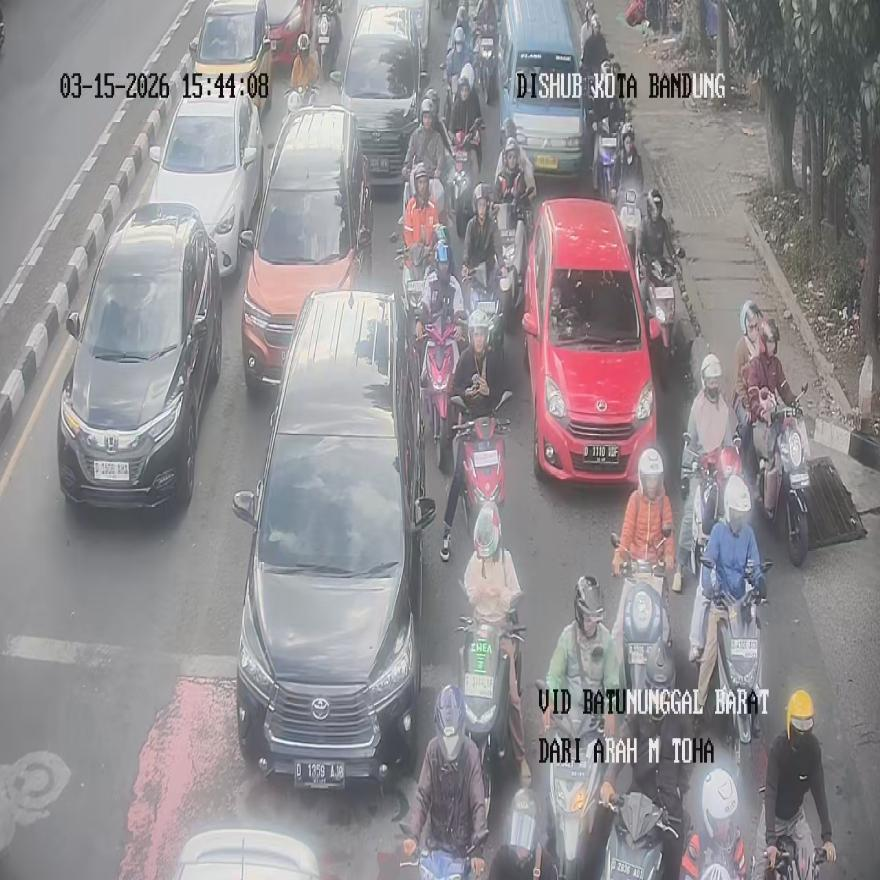Mobil: (232, 288, 436, 788), (56, 204, 221, 510), (238, 95, 372, 388), (520, 198, 658, 480), (148, 78, 262, 276), (329, 2, 428, 181), (496, 0, 585, 176), (189, 0, 271, 120)
Motor: (536, 683, 606, 878), (703, 557, 770, 753), (610, 528, 676, 722), (456, 611, 525, 787), (752, 384, 812, 567), (451, 388, 512, 536), (679, 432, 740, 580), (679, 764, 746, 880), (599, 786, 680, 880), (489, 786, 555, 880), (421, 320, 460, 474), (397, 241, 436, 385), (492, 190, 531, 326), (397, 821, 484, 880), (642, 254, 676, 386), (462, 266, 504, 370), (446, 123, 481, 242), (287, 31, 319, 108), (614, 188, 642, 265), (593, 121, 618, 202), (316, 7, 340, 80), (473, 33, 496, 106)
